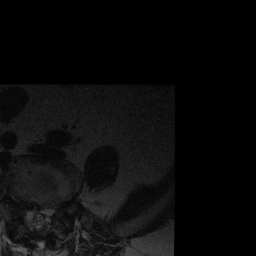CCS_normal: (33, 200, 42, 241)
LFS_severe_stenosis: (52, 194, 62, 220)
LLS_normal: (42, 199, 52, 237)
RFS_severe_stenosis: (14, 194, 23, 219)
RLS_normal: (24, 200, 33, 235)
